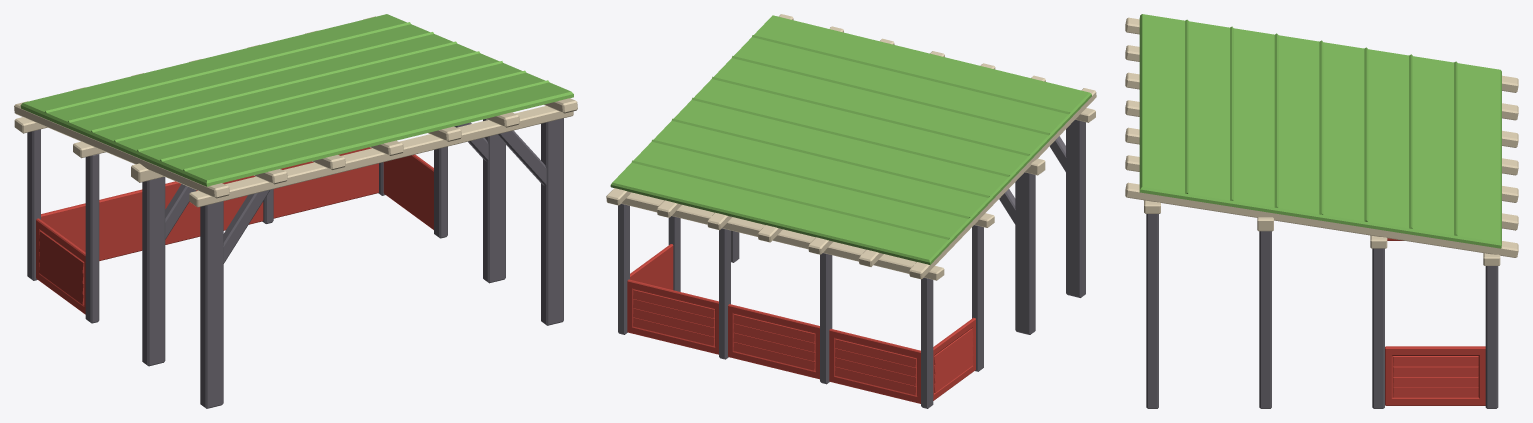
Rendered from structures_b.gltf.
3 renders of one model, left to right at view 1: azimuth 30°, elevation 25°; view 2: azimuth 150°, elevation 25°; view 3: azimuth 270°, elevation 25°, orthographic. The views are drawn at different scales.
Parts seen in each view (by area): view 1: structures_b001; view 2: structures_b001; view 3: structures_b001.
Part boxes in pixels (bbox=[...]): structures_b001: bbox=[14, 14, 577, 408]; structures_b001: bbox=[606, 14, 1096, 408]; structures_b001: bbox=[1125, 14, 1518, 408].
Size of the model in its own units: 5 by 2.93 by 4.64.
1 material, 1 textured.
